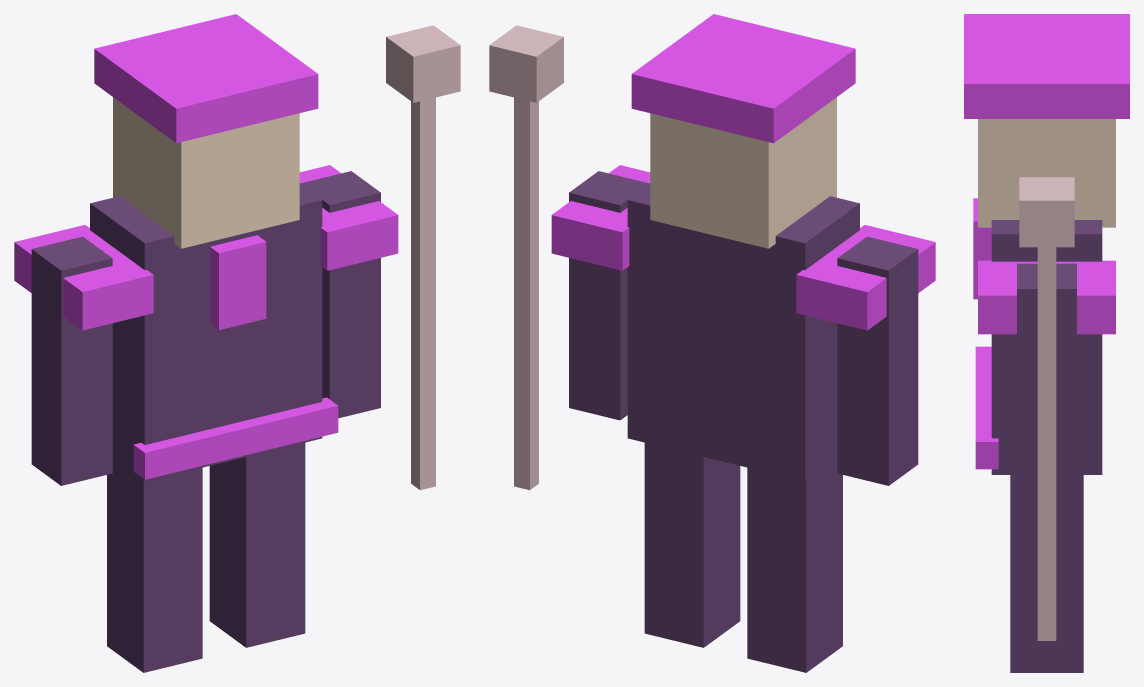
The model's file is 20_pax_dubwater_mechanist_of_bazaar.glb.
3 views of the same model, side by side, from view 1: azimuth 30°, elevation 25°; view 2: azimuth 150°, elevation 25°; view 3: azimuth 270°, elevation 25° (orthographic).
Visible parts, largest first — view 1: Pax Dubwater, Mechanist of Bazaar; view 2: Pax Dubwater, Mechanist of Bazaar; view 3: Pax Dubwater, Mechanist of Bazaar.
Part boxes in pixels (left/top/right/bottom): Pax Dubwater, Mechanist of Bazaar: left=14, top=14, right=460, bottom=672; Pax Dubwater, Mechanist of Bazaar: left=489, top=14, right=935, bottom=672; Pax Dubwater, Mechanist of Bazaar: left=964, top=14, right=1129, bottom=672.
Bounding box in the file's own units: 1.06 × 1.47 × 0.3771.
